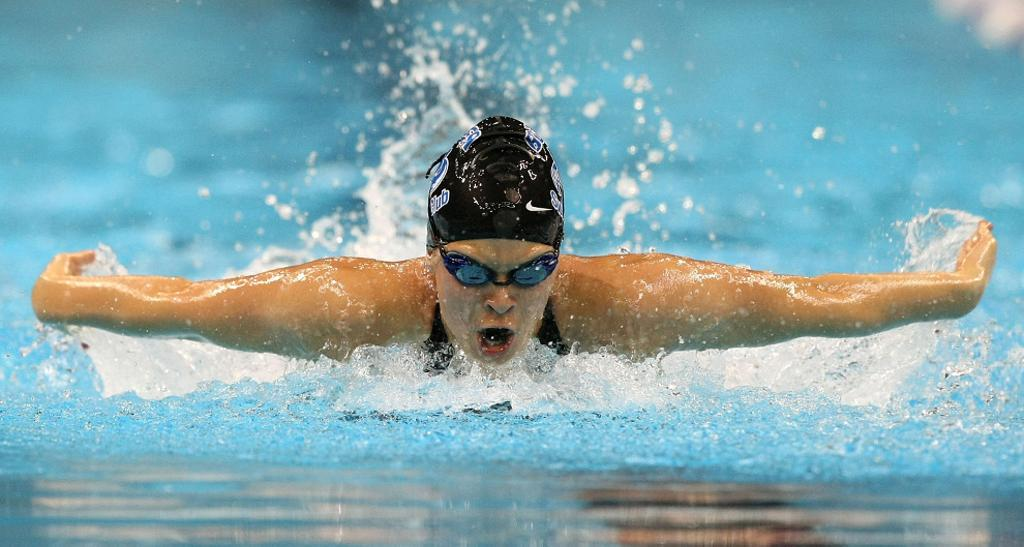face: (444, 238, 544, 368)
